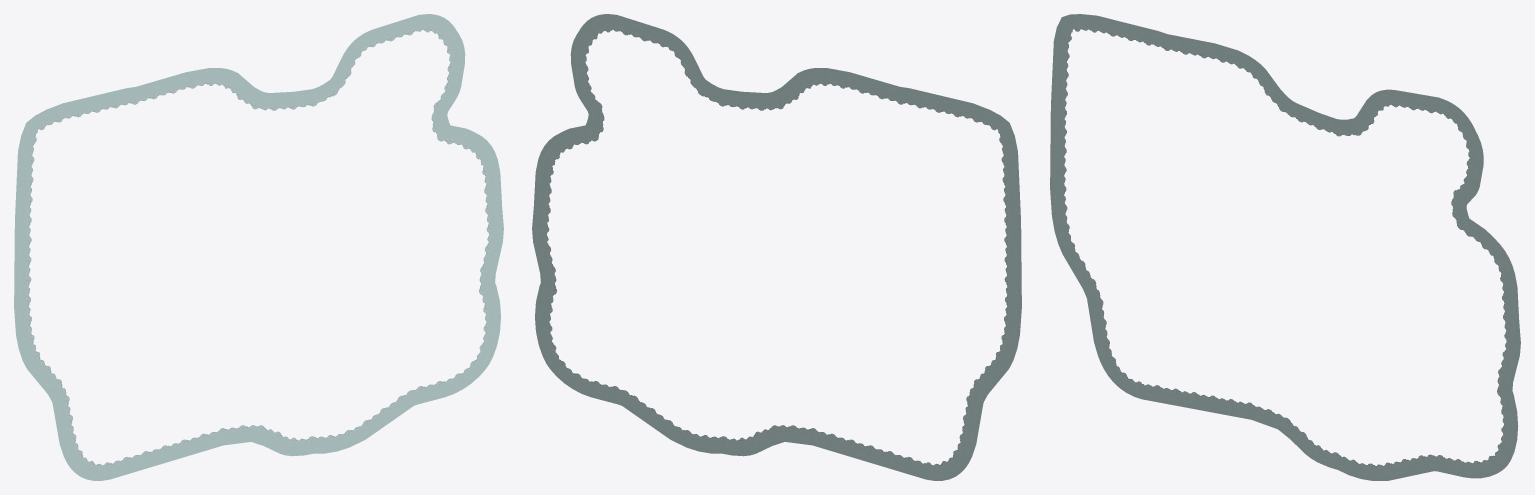
The model's file is Edge.fbx.
3 renders of one model, left to right at view 1: azimuth 30°, elevation 25°; view 2: azimuth 150°, elevation 25°; view 3: azimuth 330°, elevation 25°, orthographic. The views are drawn at different scales.
Visible parts, largest first — view 1: Edge; view 2: Edge; view 3: Edge.
Part boxes in pixels (<box>): Edge: <box>14,14,503,480</box>; Edge: <box>532,14,1021,480</box>; Edge: <box>1050,14,1520,480</box>.
Bounding box in the file's own units: 649677 × 528041 × 0.
Materials: 1 (1 with a texture image).
